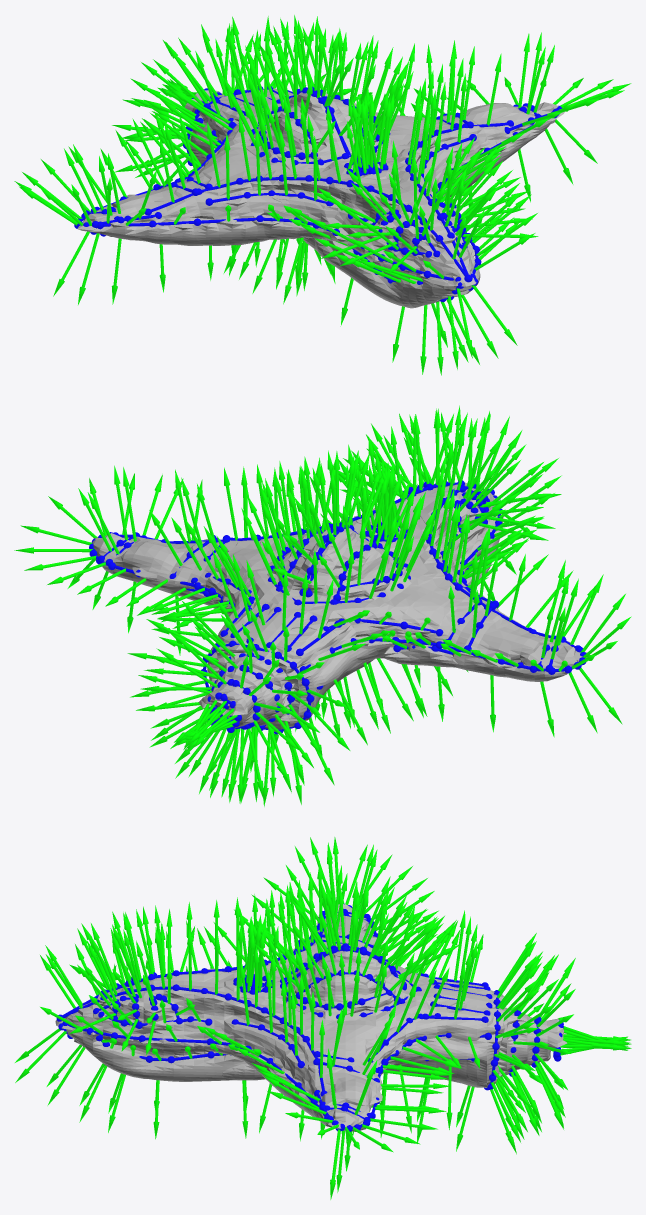
Rendered from author1_ship.gltf.
The picture shows the model from 3 angles, top to bottom: view 1: azimuth 30°, elevation 25°; view 2: azimuth 150°, elevation 25°; view 3: azimuth 270°, elevation 25°; orthographic projection. The views are drawn at different scales.
Size of the model in its own units: 0.8772 by 0.385 by 0.8377.
